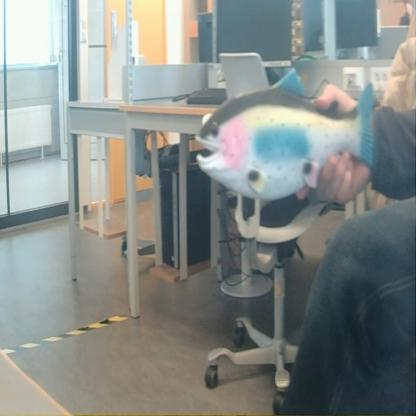rubberfish: (191, 65, 377, 202)
